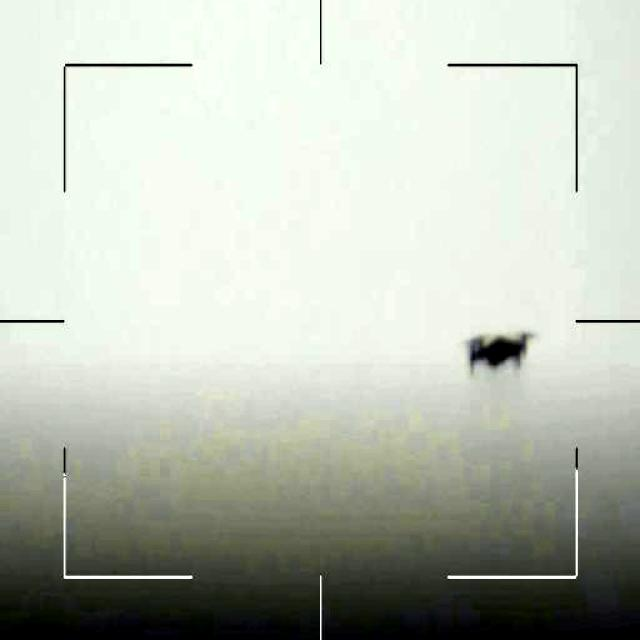bird: (465, 320, 531, 376)
